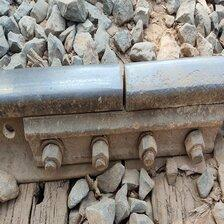railway-gap: (95, 61, 154, 117)
